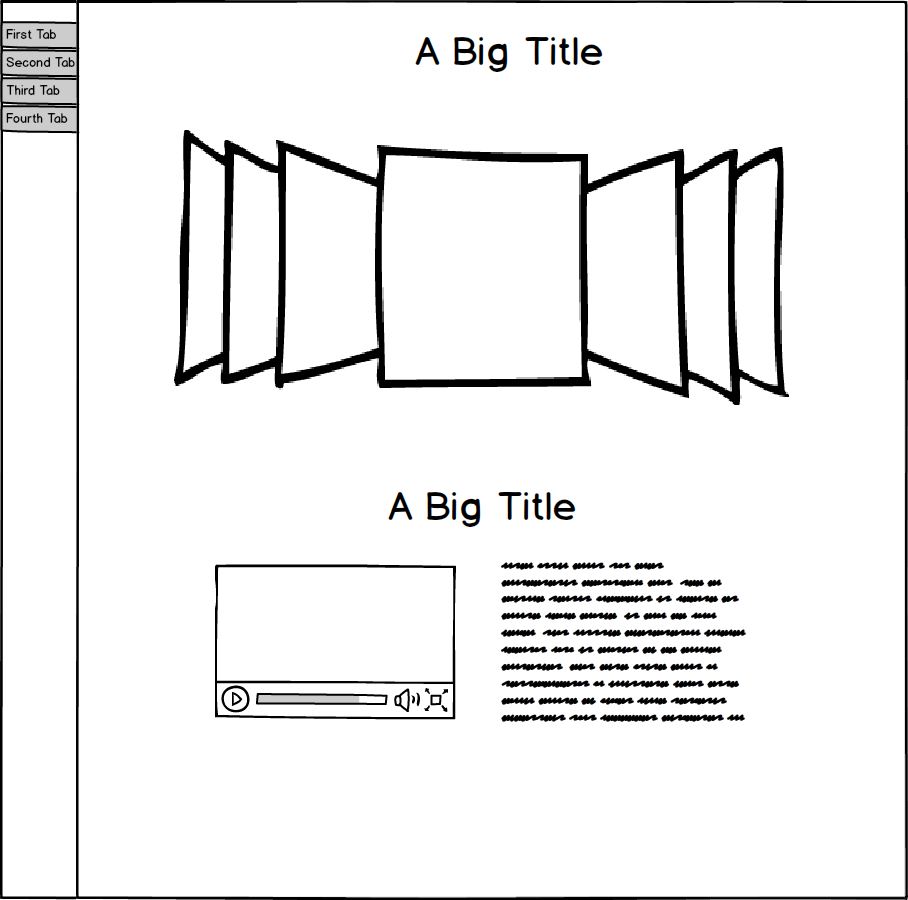h1: (411, 23, 619, 80), (376, 482, 586, 528)
p: (498, 558, 760, 726)
sidebar: (2, 10, 93, 145)
slideshow: (161, 114, 808, 414)
video: (208, 555, 467, 725)
